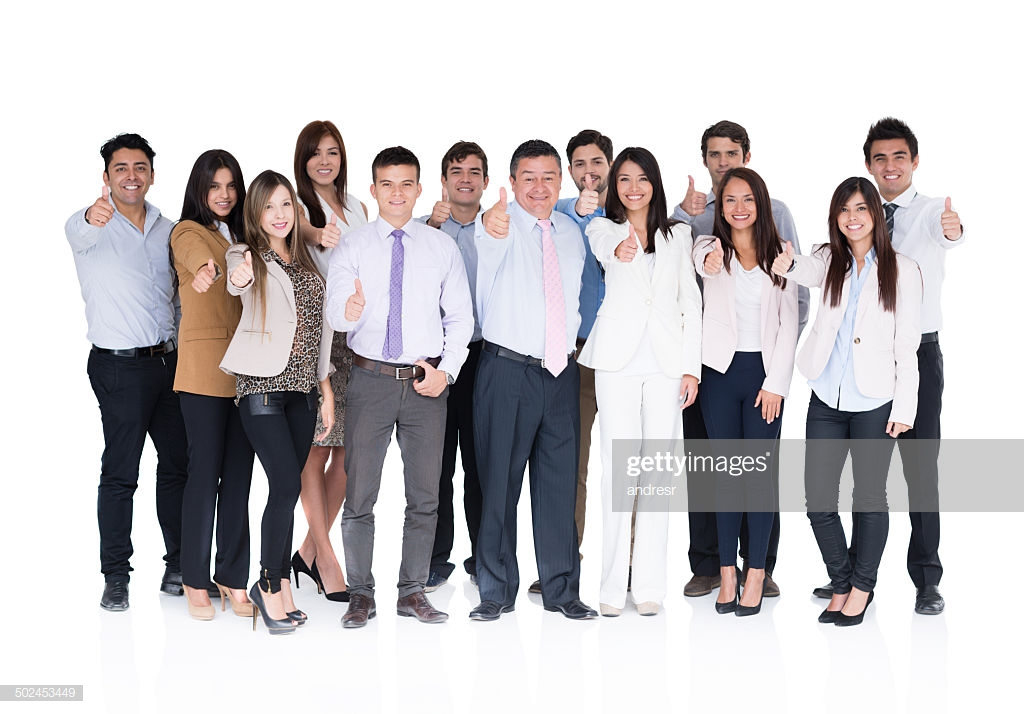thumbsup: (485, 187, 509, 238), (90, 186, 115, 227), (191, 258, 217, 294), (345, 278, 366, 321), (579, 174, 599, 214), (687, 175, 707, 215), (231, 251, 253, 286), (941, 197, 960, 236), (771, 240, 792, 274), (705, 238, 724, 275), (321, 213, 341, 248), (431, 188, 451, 223), (620, 224, 638, 262)
